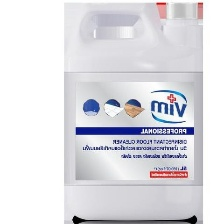cleaning_solution: (62, 0, 205, 222)
